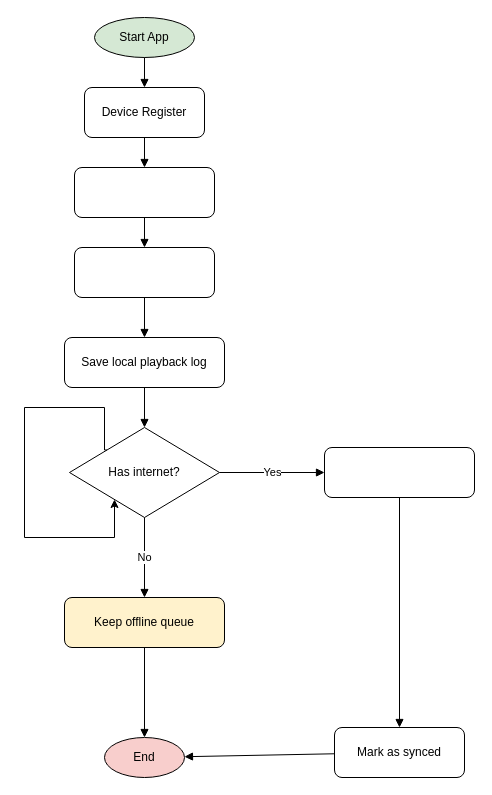
Image size: 492x795. Some labels were removed from this diagram. The centre of each missing label's shape, as x and y in pixels:
"Play audio near POI" goes at point (144, 272).
"Sync POIs from API" goes at point (144, 192).
"Upload pending logs" goes at point (399, 472).
